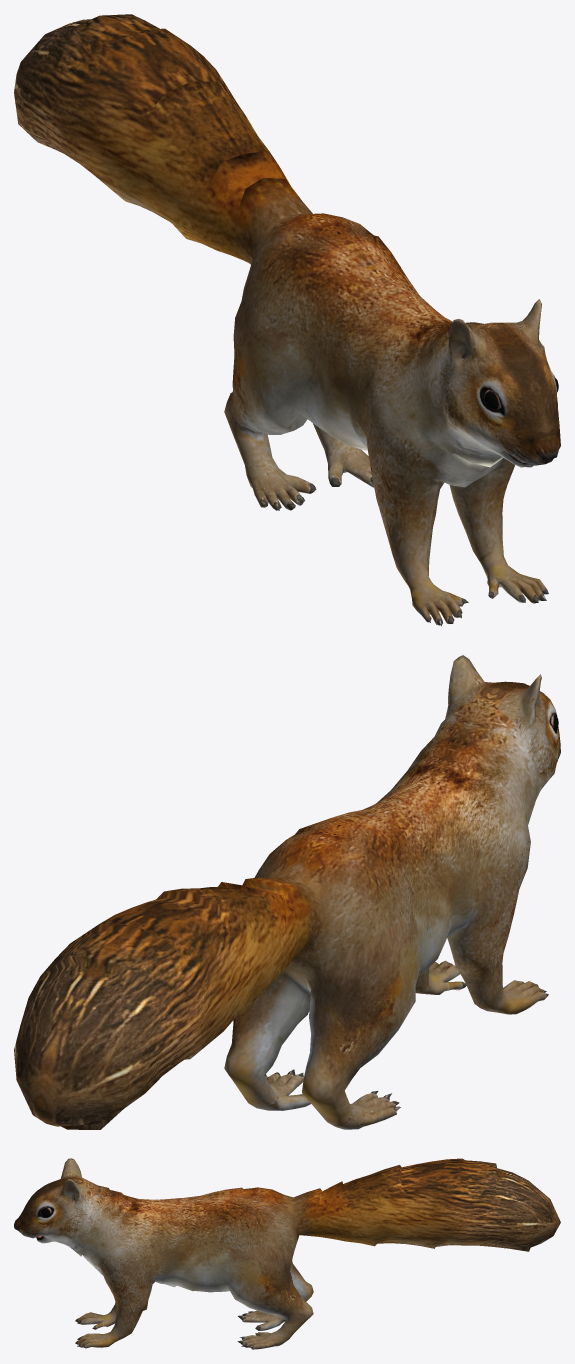
File: squirrel.glb
3 renders of one model, top to bottom at view 1: azimuth 30°, elevation 25°; view 2: azimuth 150°, elevation 25°; view 3: azimuth 270°, elevation 25°, orthographic. The views are drawn at different scales.
Parts seen in each view (by area): view 1: sm_1_0_0_0; view 2: sm_1_0_0_0; view 3: sm_1_0_0_0.
Part boxes in pixels (box(x1,y1,x2,y2)): sm_1_0_0_0: box(14, 14, 560, 626); sm_1_0_0_0: box(14, 655, 560, 1129); sm_1_0_0_0: box(14, 1158, 560, 1349).
Size of the model in its own units: 0.0762 by 0.1458 by 0.425.
Materials: 2 (2 with a texture image).
